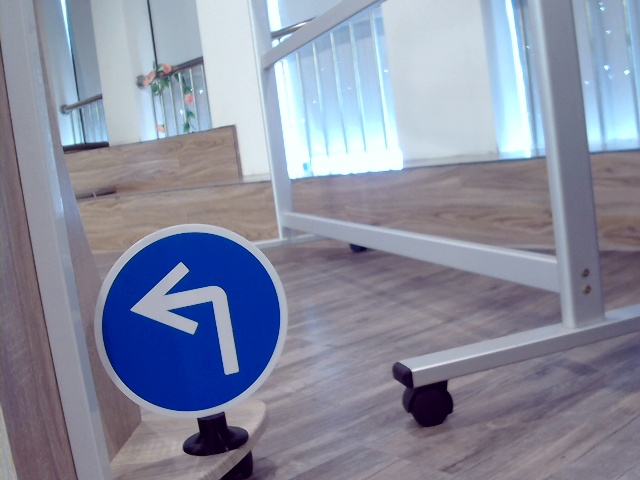turn_left: (131, 256, 242, 373)
